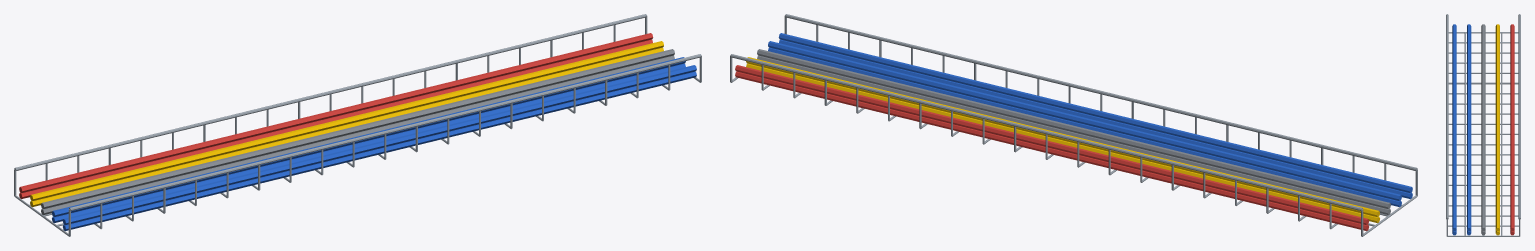
File: 27_Cable_Tray_Straight_2m.fbx
3 renders of one model, left to right at view 1: azimuth 30°, elevation 25°; view 2: azimuth 150°, elevation 25°; view 3: azimuth 270°, elevation 25°, orthographic. The views are drawn at different scales.
Visible parts, largest first — view 1: 27_Cable_Tray_Straight_2m; view 2: 27_Cable_Tray_Straight_2m; view 3: 27_Cable_Tray_Straight_2m.
Boxes of the visible parts, <box> form: 27_Cable_Tray_Straight_2m: <box>14,14,701,236</box>; 27_Cable_Tray_Straight_2m: <box>730,14,1417,236</box>; 27_Cable_Tray_Straight_2m: <box>1446,14,1520,236</box>.
Bounding box in the file's own units: 2.01 × 0.088 × 0.31.
